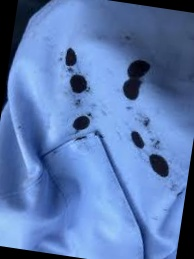ink: (122, 58, 151, 101), (147, 154, 170, 177), (68, 75, 89, 94), (72, 114, 90, 133), (64, 46, 78, 68), (131, 132, 146, 149)
